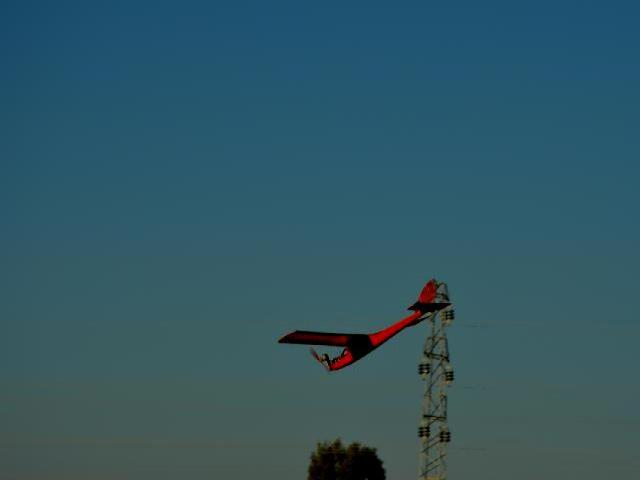iha: (280, 271, 449, 371)
